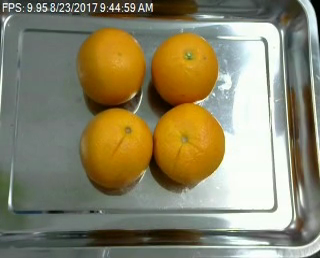Orange: (79, 107, 154, 190), (154, 102, 226, 187), (77, 27, 146, 106), (150, 33, 217, 105)
